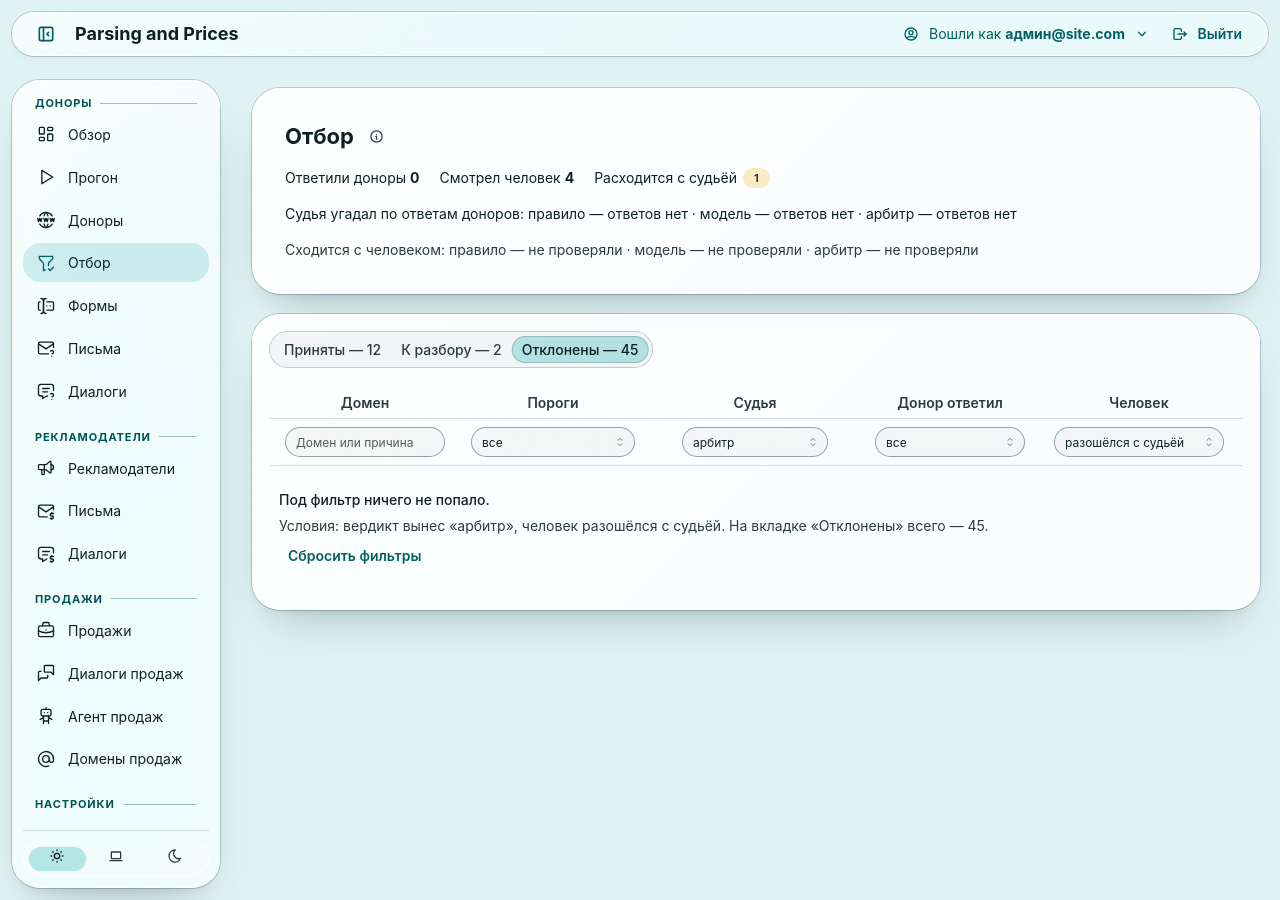
Scenario: отбор: пусто и отказ › пусто под фильтром — условия словами и «Сбросить фильтры», вкладка остаётся
Expected: the text "Под фильтр ничего не попало." is shown, [279,490,490,510]
Expected: the text "Условия: вердикт вынес «арбитр», человек разошёлся с судьёй. На вкладке «Отклонены» всего — 45." is shown, [279,517,989,534]
What coordinates should you click on to do the following:
click the button "Сбросить фильтры"
I would click on:
 (355, 556)
Its box is [279,543,430,569].
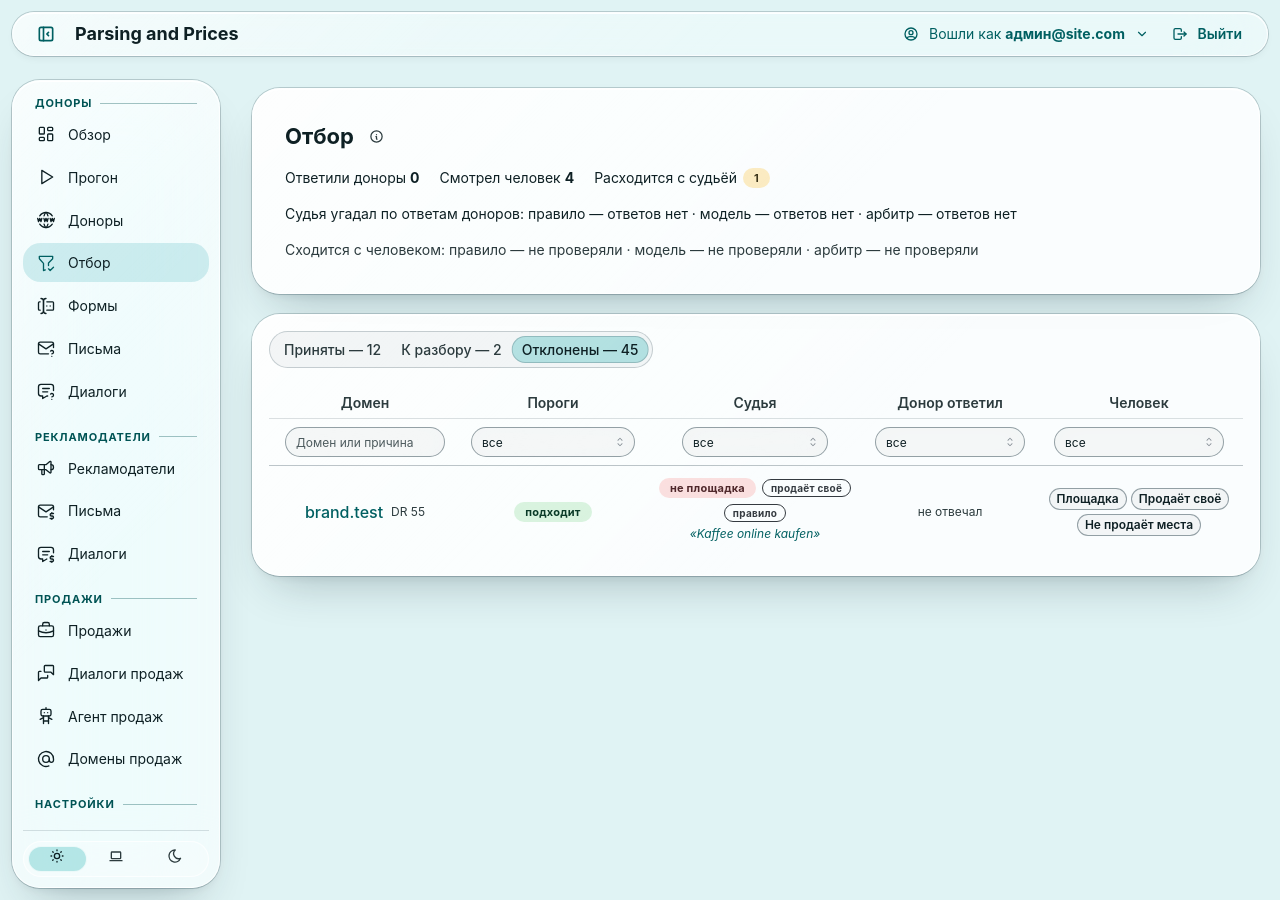
Result: the link "brand.test" is shown at [305,500,383,525]
